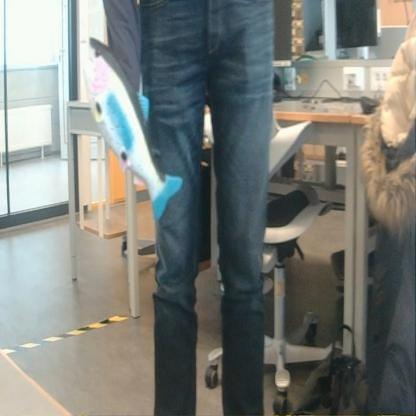rubberfish: (77, 29, 188, 226)
